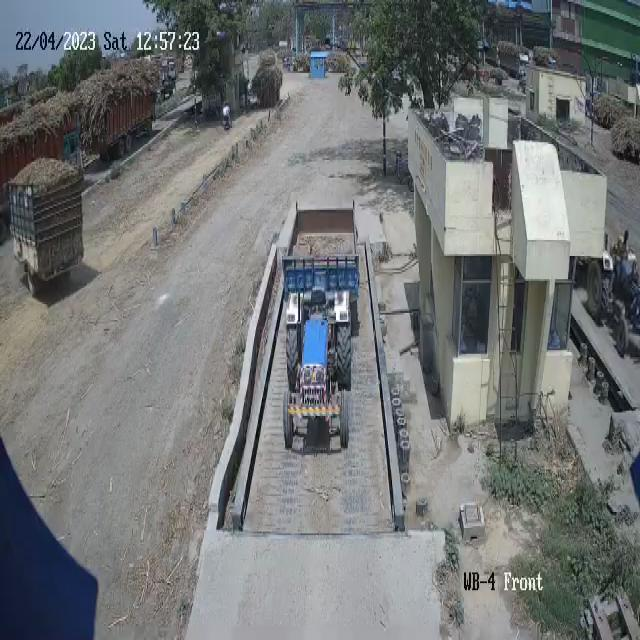Tratores - v5 YOLO V8L 2024-11-13: (274, 283, 356, 468), (594, 224, 640, 358)
